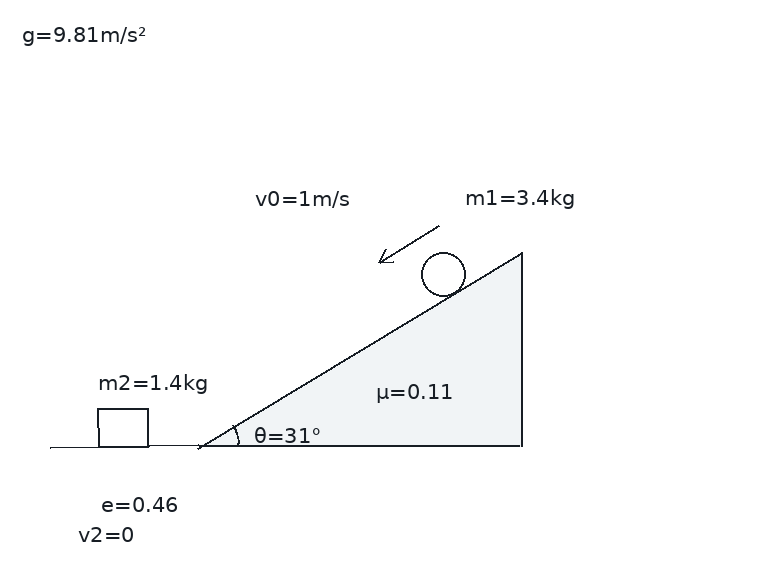ball: (419, 250, 467, 298)
block: (95, 407, 151, 448)
ramp: (197, 250, 523, 448)
